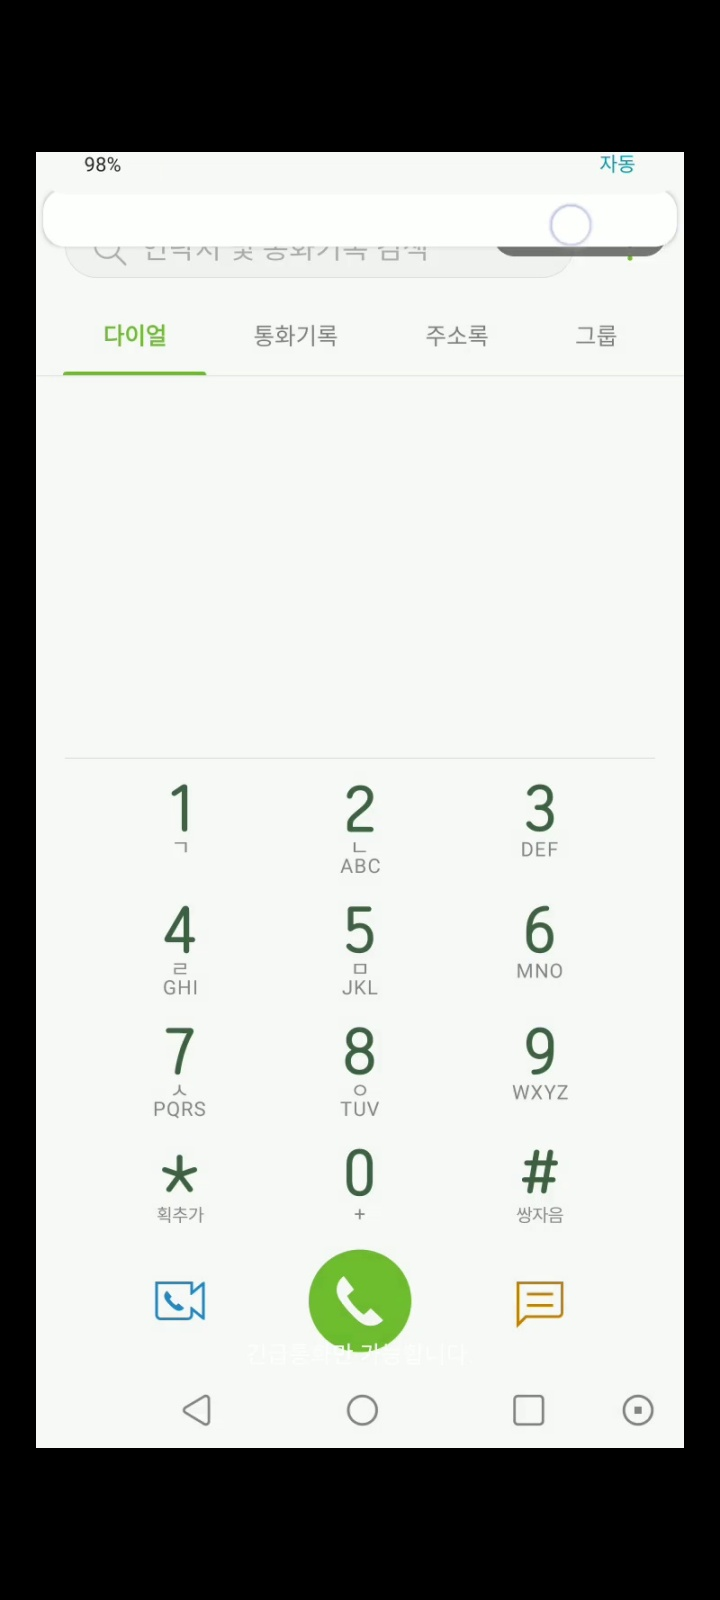Cursor: (549, 201, 594, 246)
